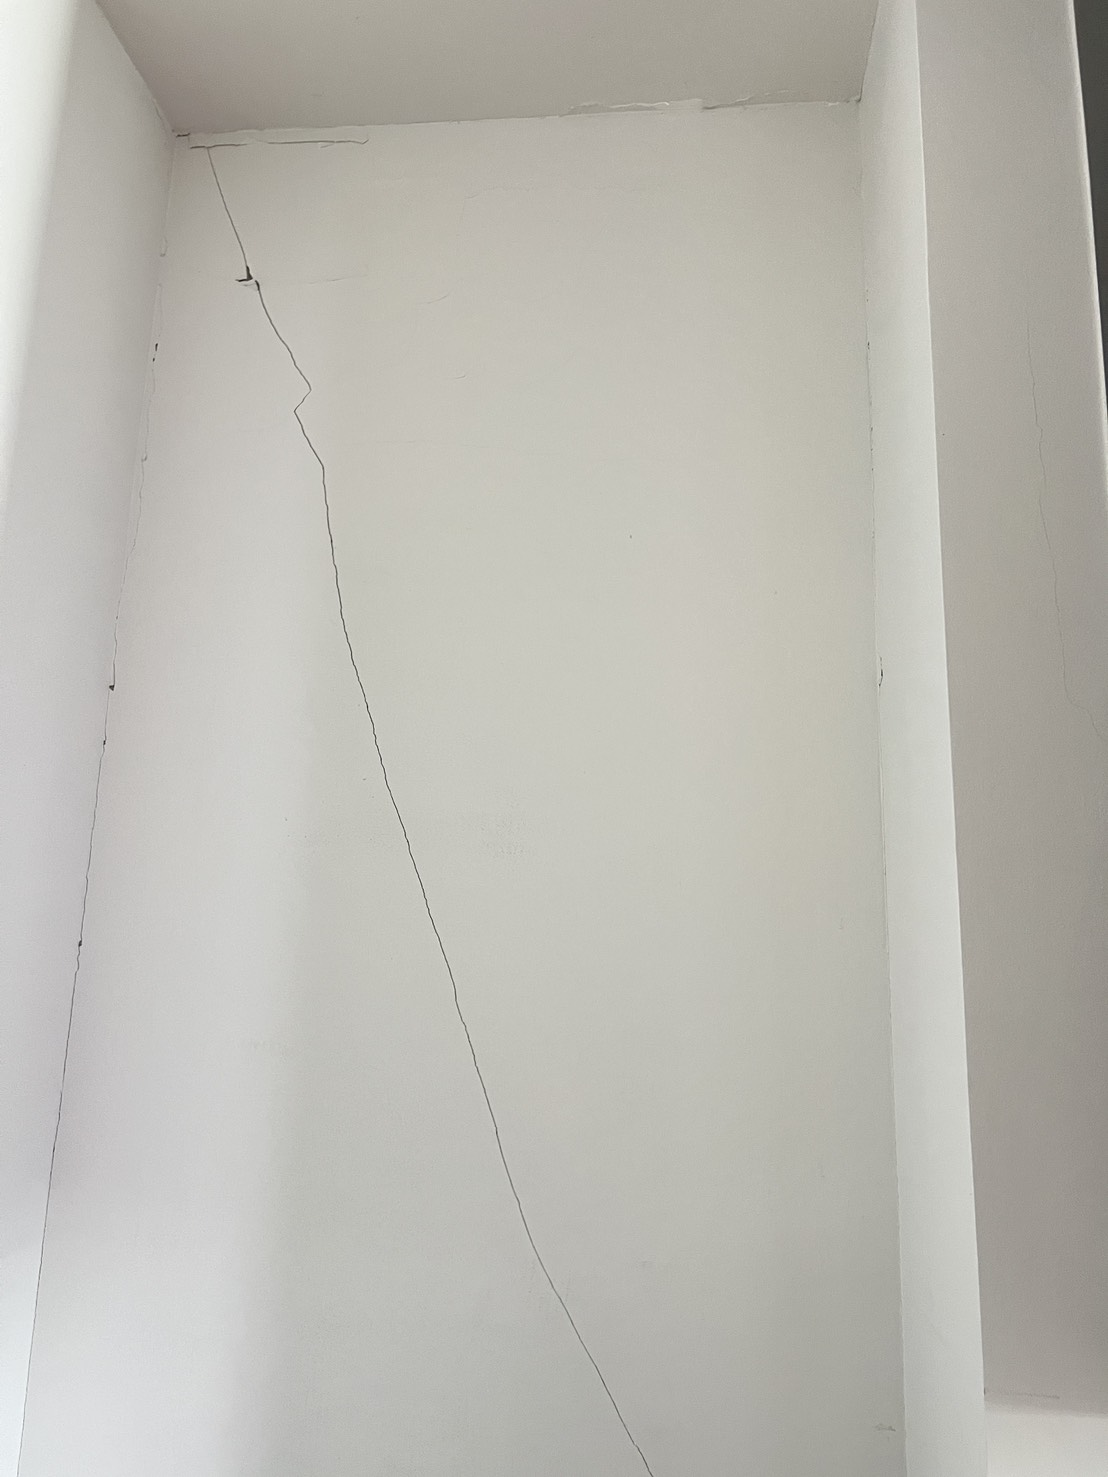Low: (190, 142, 676, 1477)
